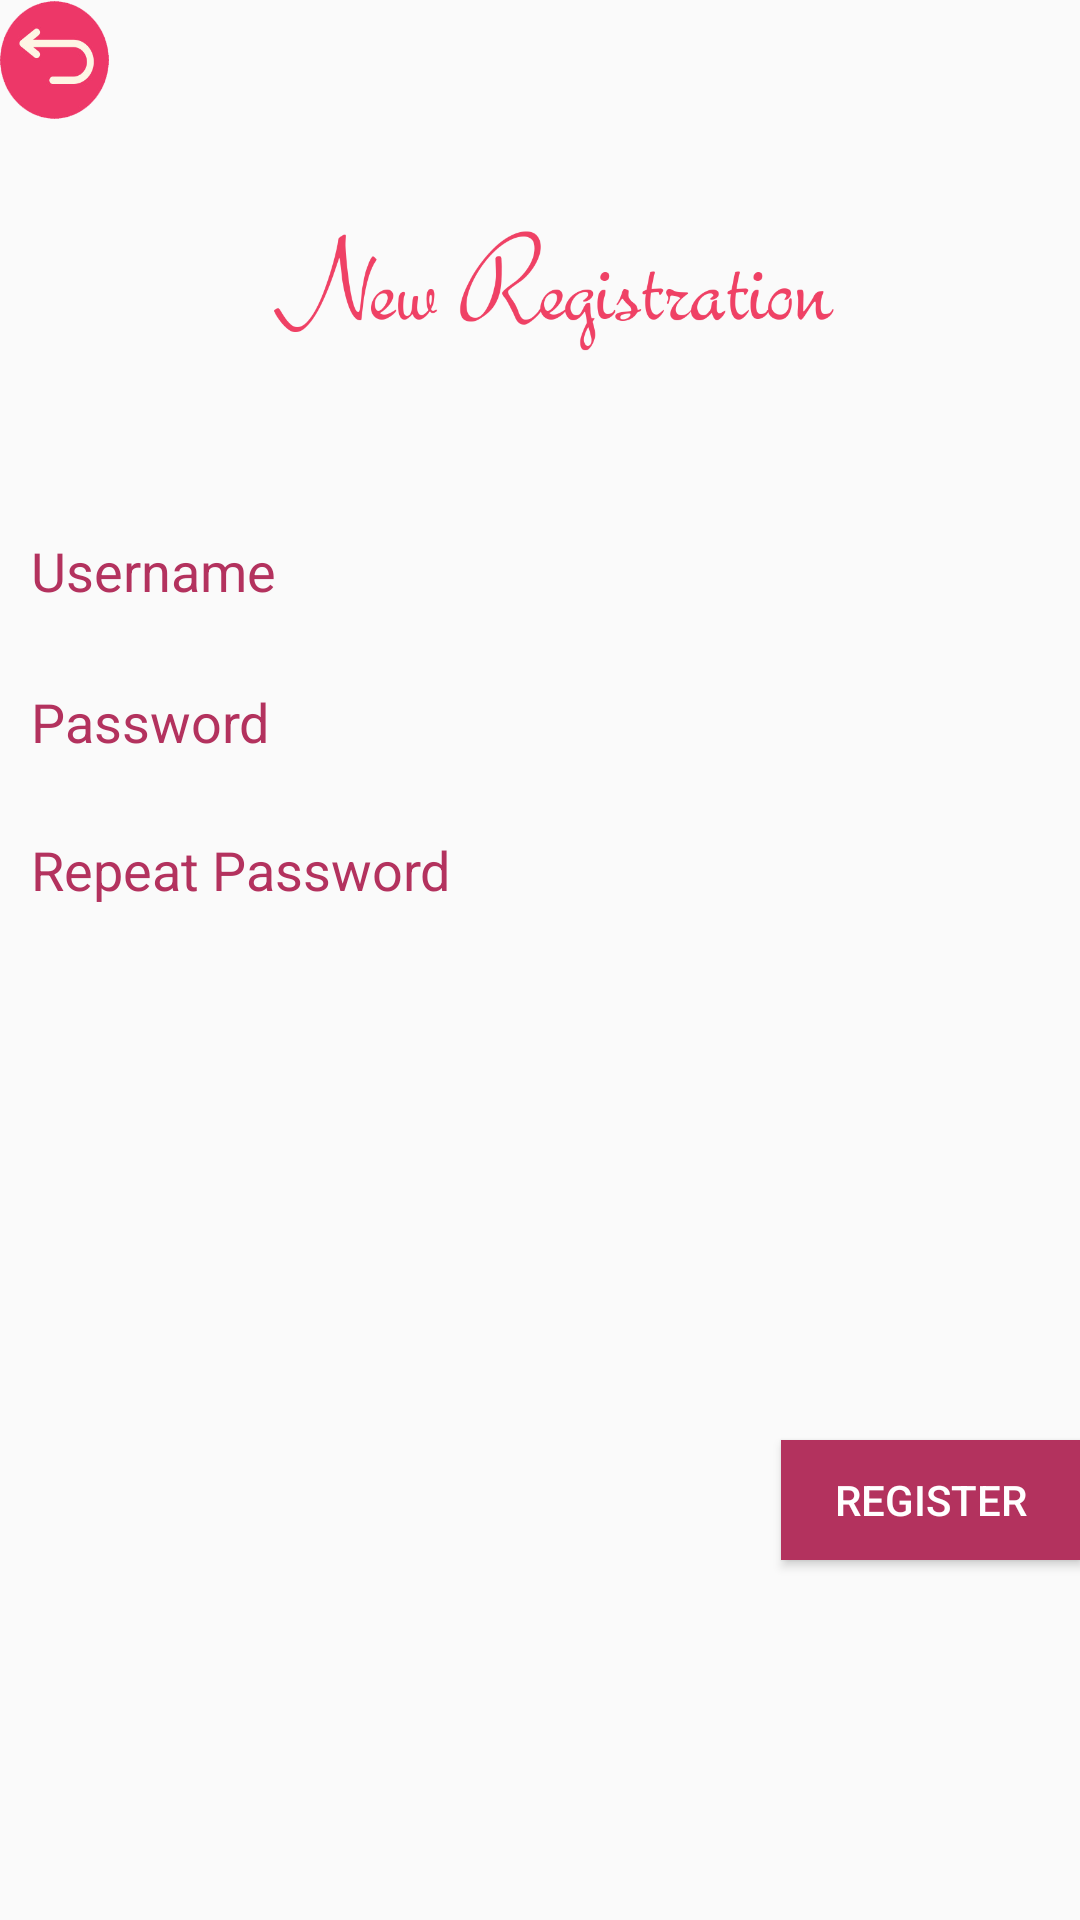

Named icons in this screenshot (1080 x 1920) and their bounding boxes, (x1, y1, x2, y2):
backbut: (0, 1, 109, 119)
